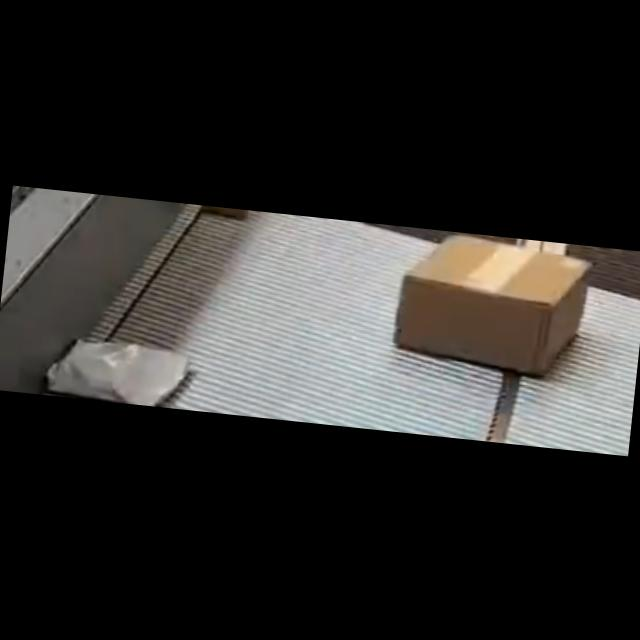box: (391, 226, 592, 380)
mailer: (44, 331, 189, 409)
